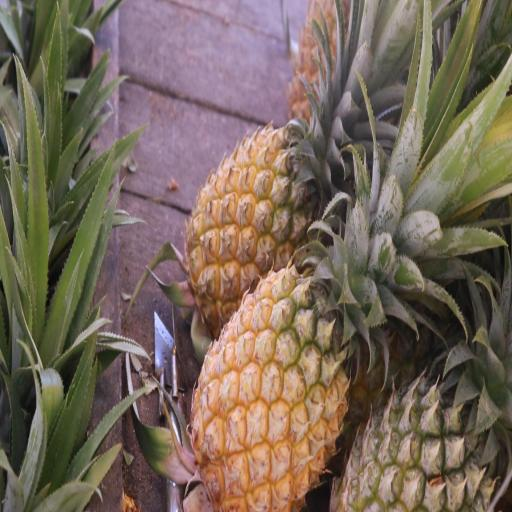Pineapple - v8 v1: (186, 194, 356, 508), (180, 86, 347, 344)
